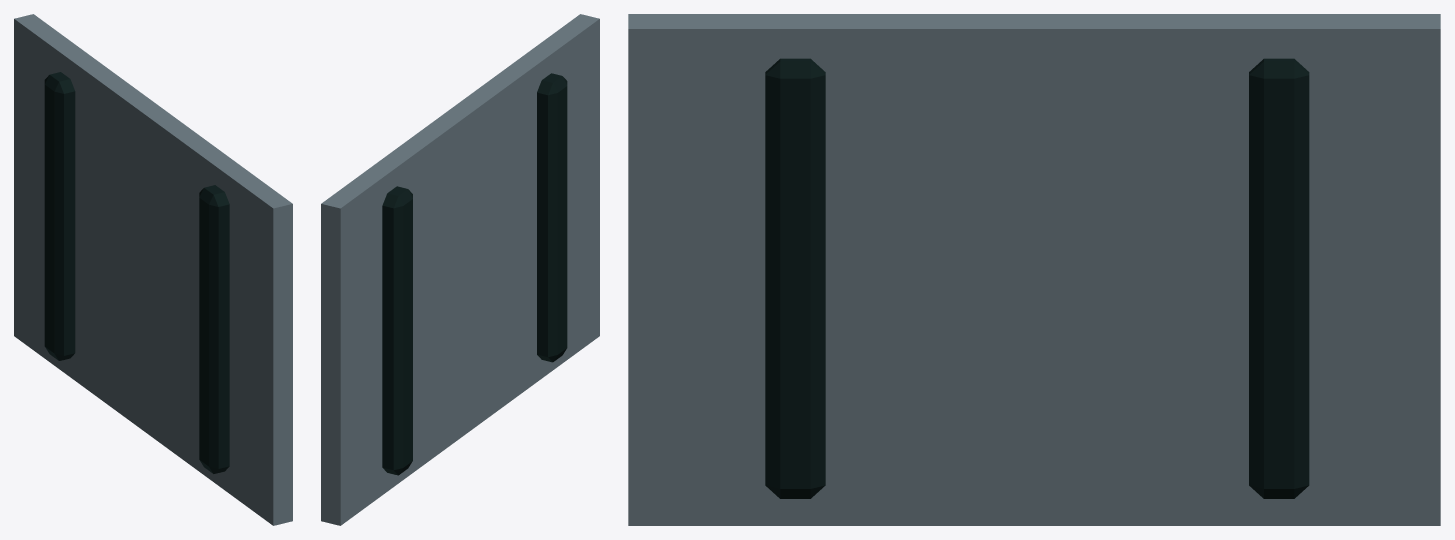
Rendered from plaka 12 emboss.fbx.
The picture shows the model from 3 angles, left to right: view 1: azimuth 30°, elevation 25°; view 2: azimuth 150°, elevation 25°; view 3: azimuth 270°, elevation 25°; orthographic projection. The views are drawn at different scales.
Visible parts, largest first — view 1: polySurface1950; view 2: polySurface1950; view 3: polySurface1950.
Boxes of the visible parts, x1,y1,x2,y2 form: polySurface1950: (14,14,292,525); polySurface1950: (321,14,599,525); polySurface1950: (628,14,1440,525).
Bounding box in the file's own units: 20.11 × 139 × 206.
